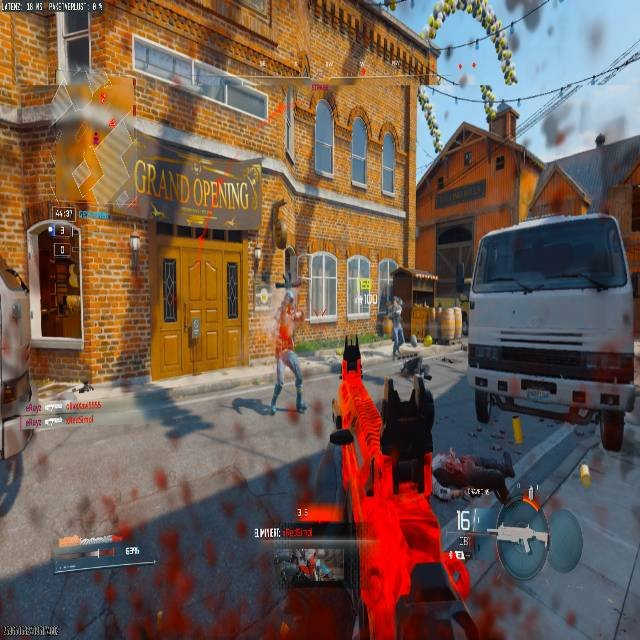head: (285, 297, 294, 308), (392, 295, 400, 304)
player: (377, 350, 435, 498), (269, 298, 309, 413), (385, 295, 406, 358)
